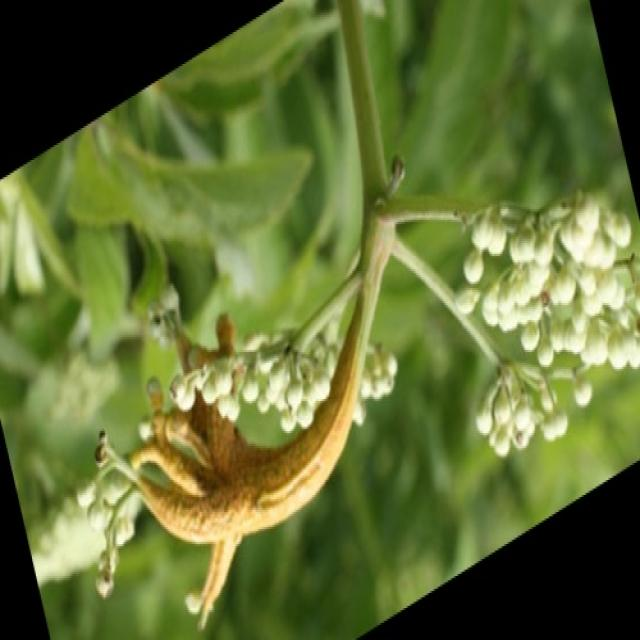Elderberry_rust: (100, 351, 378, 559)
